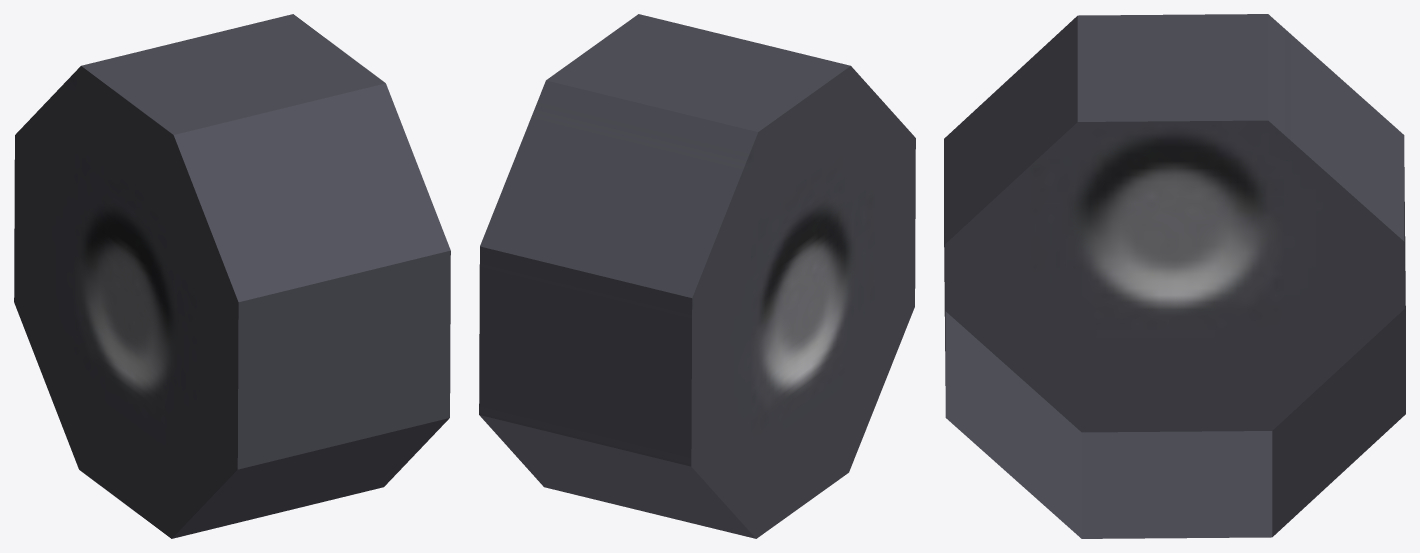
File: interuptorForEnigma.fbx
The picture shows the model from 3 angles, left to right: view 1: azimuth 30°, elevation 25°; view 2: azimuth 150°, elevation 25°; view 3: azimuth 270°, elevation 25°; orthographic projection. The views are drawn at different scales.
Visible parts, largest first — view 1: bouton1; view 2: bouton1; view 3: bouton1.
Part boxes in pixels (bbox=[...]): bouton1: bbox=[14, 14, 450, 538]; bouton1: bbox=[479, 14, 915, 538]; bouton1: bbox=[944, 14, 1405, 538].
Bounding box in the file's own units: 2.21 × 4.04 × 4.04.
